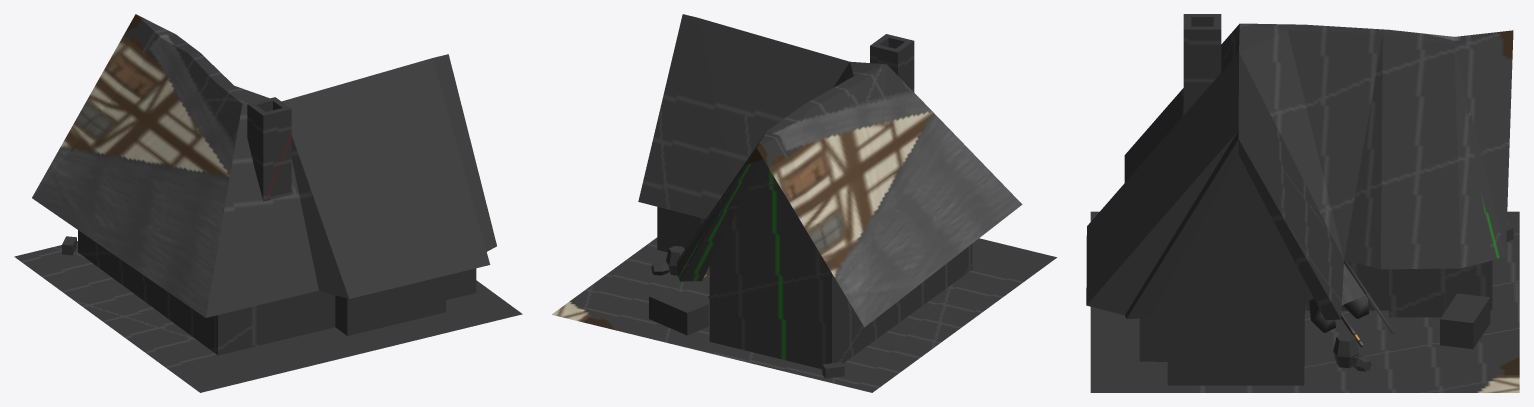
File: maison_age1.obj
3 renders of one model, left to right at view 1: azimuth 30°, elevation 25°; view 2: azimuth 150°, elevation 25°; view 3: azimuth 270°, elevation 25°, orthographic. The views are drawn at different scales.
Visible parts, largest first — view 1: Plane; view 2: Plane; view 3: Plane.
Boxes of the visible parts, left/top/right/bottom form: Plane: left=14, top=14, right=522, bottom=392; Plane: left=552, top=14, right=1056, bottom=392; Plane: left=1086, top=14, right=1519, bottom=392.
Size of the model in its own units: 4.58 by 3.08 by 4.63.
